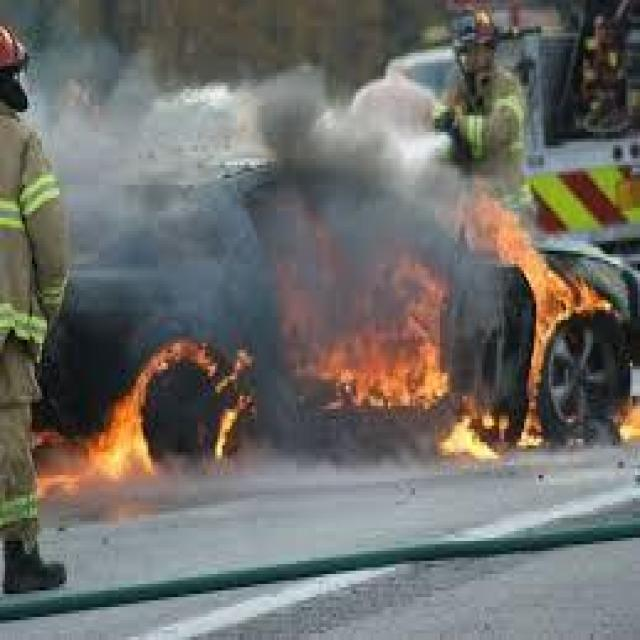fire: (23, 236, 634, 471)
smoke: (112, 50, 437, 228)
